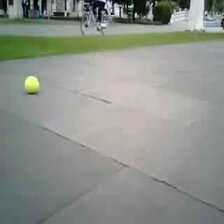tennis: (25, 76, 39, 94)
